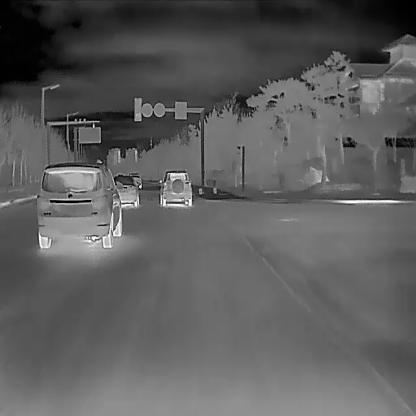car: (36, 161, 124, 249), (158, 169, 192, 206), (112, 173, 140, 206), (128, 173, 142, 188)
